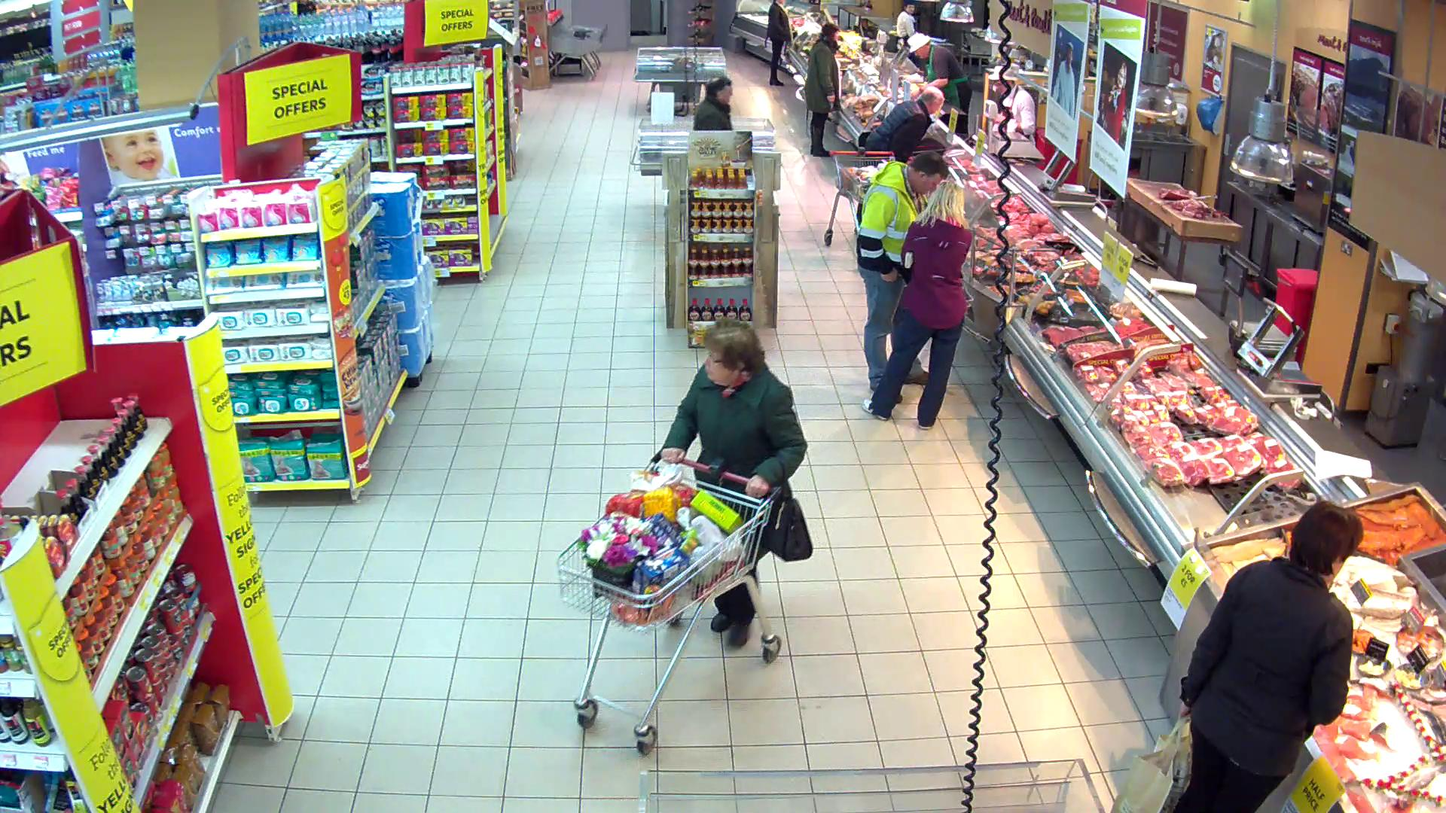backpack-or-handbag: (762, 486, 813, 562)
filled-shopping-bags: (1110, 716, 1193, 813)
filled-trolly: (555, 453, 781, 755), (825, 151, 895, 246)
person: (1180, 504, 1363, 813), (660, 321, 807, 645), (864, 86, 945, 161)
person-with-basket-trolly-and-backpack-handbag: (554, 320, 812, 756)
person-with-filled-basket-trolly: (825, 86, 945, 246)
person-with-filled-shopping-bag-s-: (1111, 504, 1364, 813)
